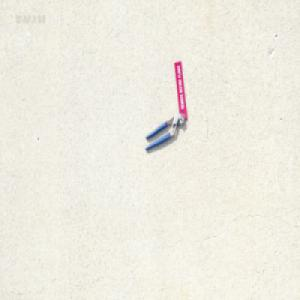Label: (174, 60, 188, 119)
Pliers: (144, 112, 185, 152)
